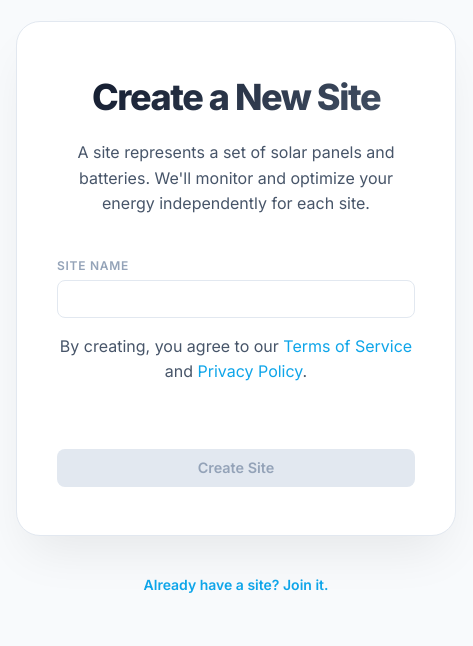
Scenario: NewSitePage Component › displays error message on failure
Step 1. Type "Bad Site" into the field labelled "Site Name" → (236, 299), box [57, 280, 415, 318]
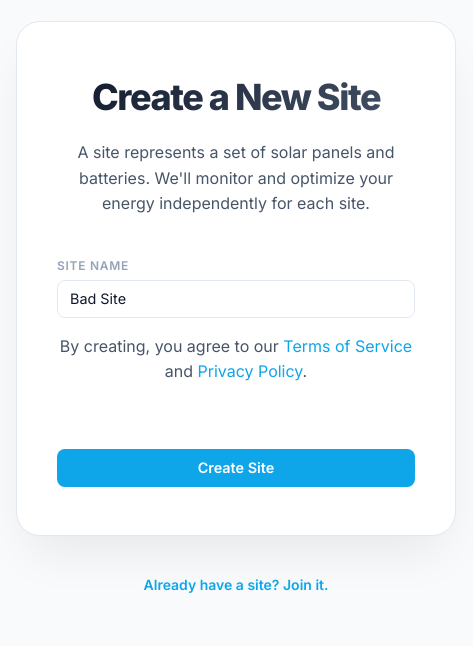
Step 2. Click the button "Create Site" → (236, 468), box [57, 449, 415, 487]
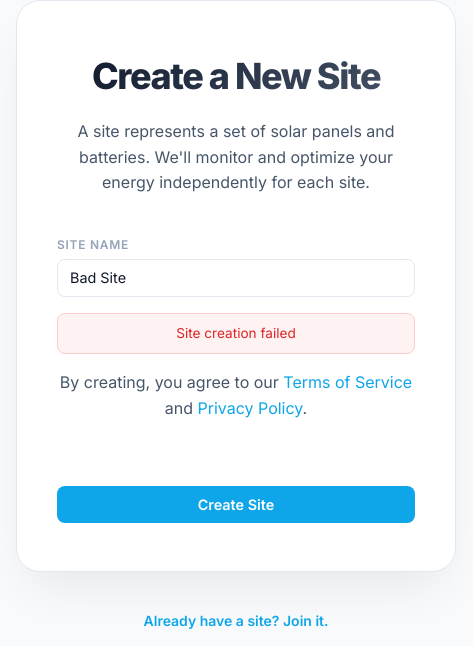
Check: the button "Create Site" is enabled, box [57, 486, 415, 523]
Check: the text "Site creation failed" is shown, box [57, 313, 415, 354]
